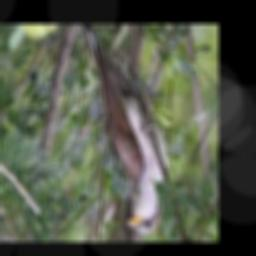Cuckoo: (84, 26, 167, 236)
